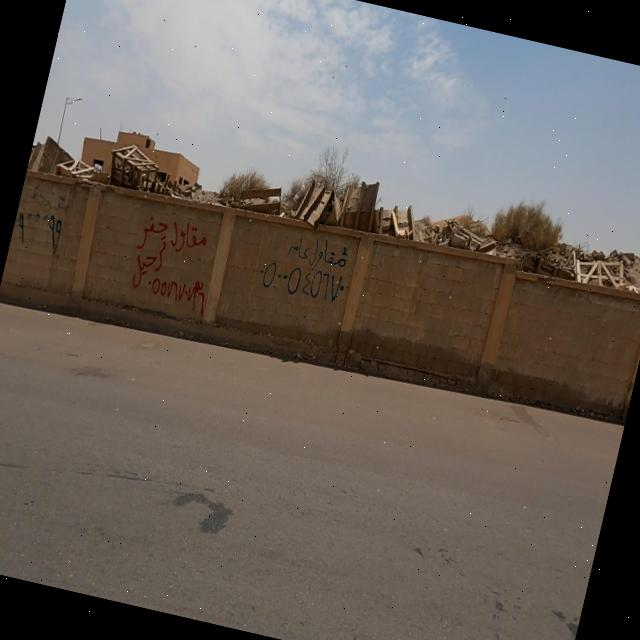Graffiti: (124, 213, 225, 318), (253, 226, 355, 307), (12, 185, 73, 257)
